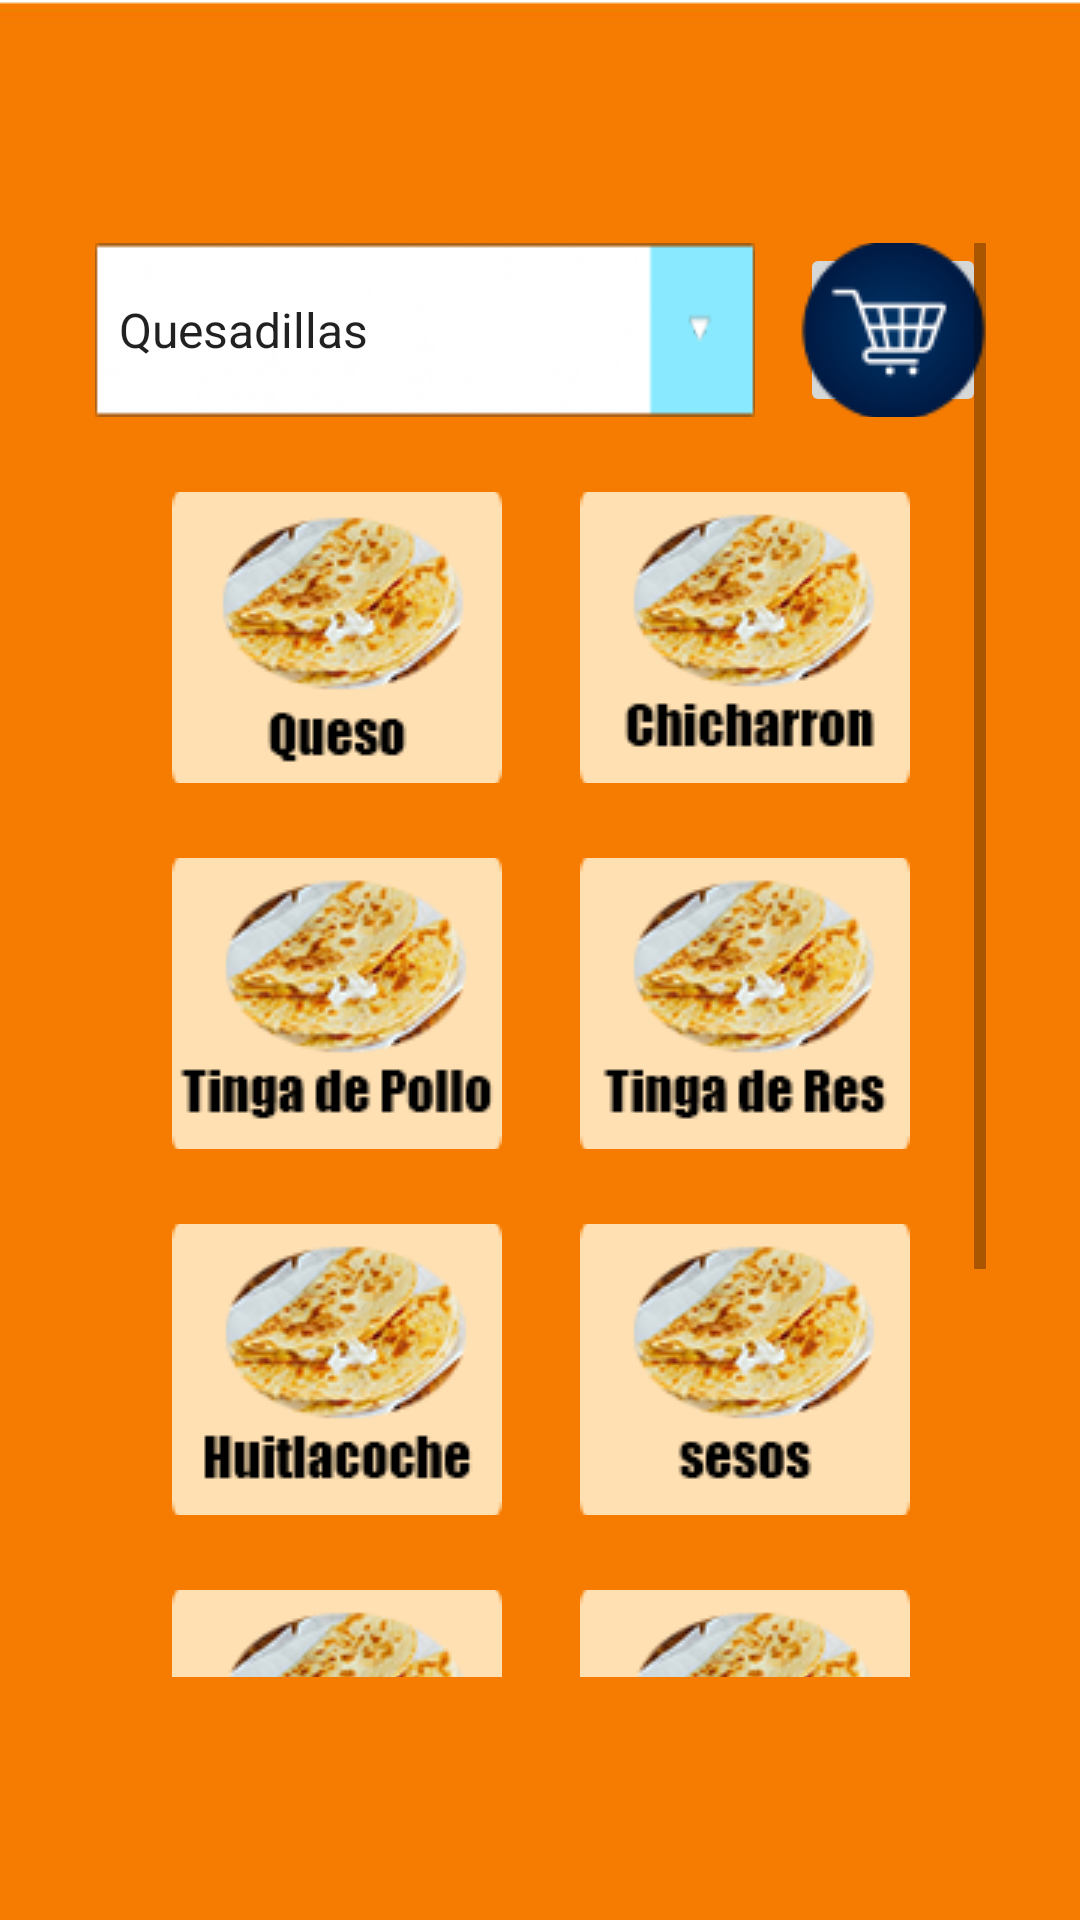

Named icons in this screenshot (1080 × 1920) and their centers, [x,y]:
carrito: [893,330]
